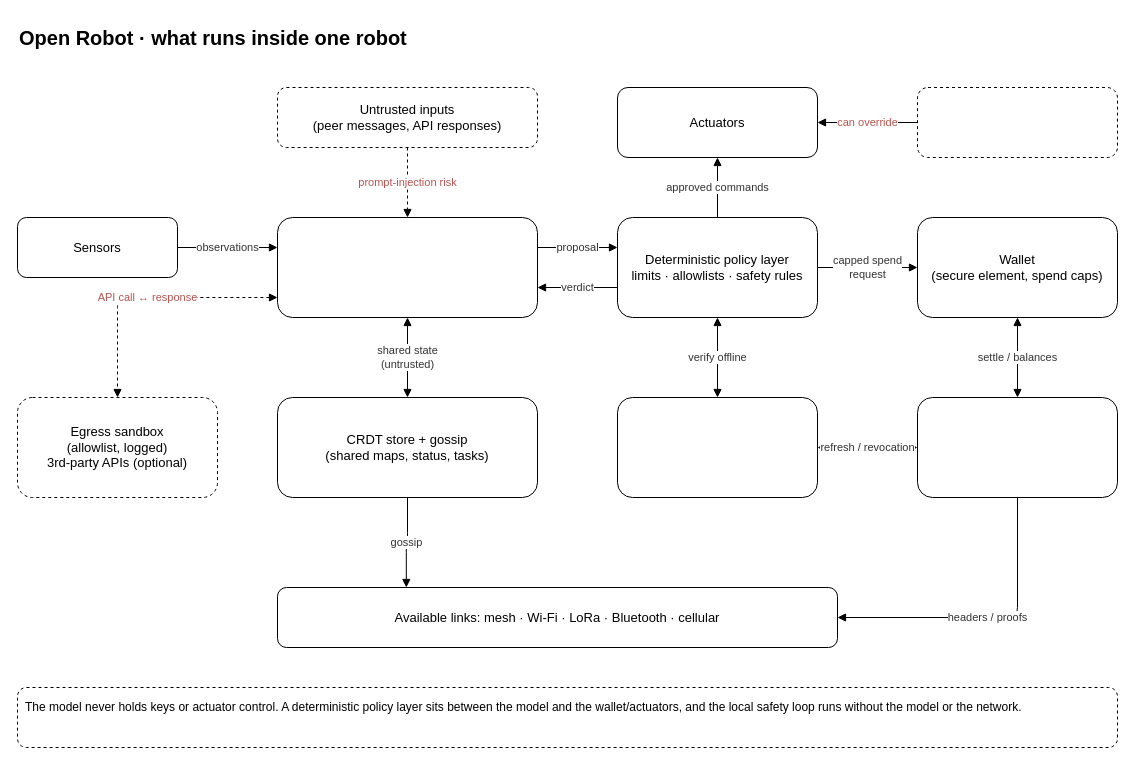
The diagram is 1135 pixels wide and 765 high, and some of its shapes have lost their labels. Here are the shapes that lost their labels. From the top down, the box of each, then its label:
(916, 86, 1118, 158): Local safety loop (classical, ms, no model/network)
(276, 216, 538, 318): Local inference (on-device model)
(616, 396, 818, 498): Signed capability tokens (permissions, expiry)
(916, 396, 1118, 498): Blockchain light client / node (identity, permissions, payments)
